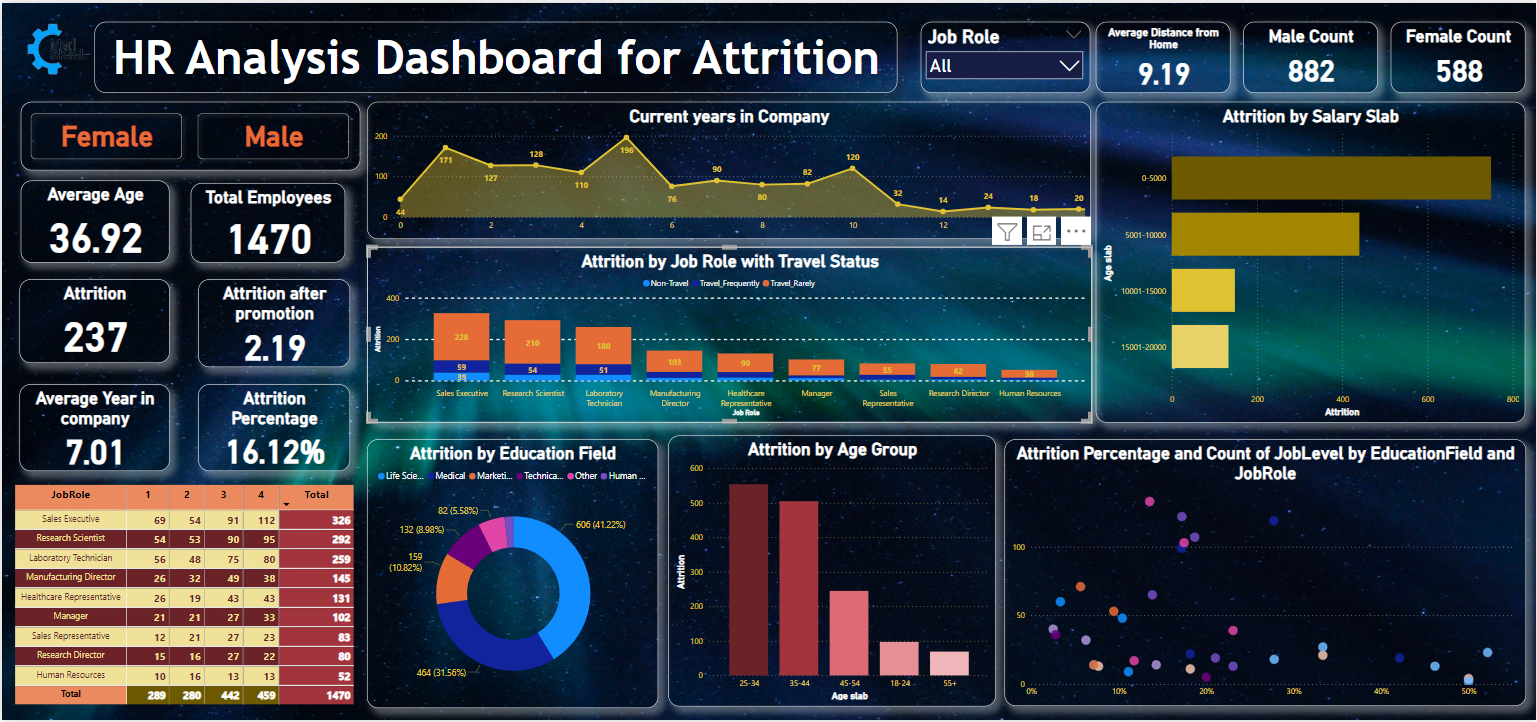

The dashboard page shown, as its layout file describes it:
{"tool":"powerbi","page":{"name":"Page 1","canvas":[2360,1105],"ordinal":0},"visuals":[{"type":"card","title":"Total Employees","fields":{"Values":["Sum(HR-Employee-Attrition.EmployeeCount)"]},"box":[291.1,277.8,237.8,122.2],"z":0},{"type":"donutChart","title":"Attrition by Education Field","fields":{"Y":["CountNonNull(HR-Employee-Attrition.Attrition)"],"Category":["HR-Employee-Attrition.EducationField"]},"box":[561.4,670.5,447.7,413.6],"z":1000},{"type":"card","title":"Attrition","fields":{"Values":["HR-Employee-Attrition.Total Attrition"]},"box":[26.7,424.4,231.1,128.9],"z":2000},{"type":"card","title":"Attrition Percentage","fields":{"Values":["HR-Employee-Attrition.Attrition Percentage"]},"box":[302.2,586.7,233.3,133.3],"z":3000},{"type":"card","title":"Average Age","fields":{"Values":["Avg(HR-Employee-Attrition.Age)"]},"box":[28.9,273.3,228.9,126.7],"z":4000},{"type":"card","title":"Average Year in company","fields":{"Values":["Avg(HR-Employee-Attrition.YearsAtCompany)"]},"box":[26.7,586.7,231.1,133.3],"z":5000},{"type":"columnChart","title":"Attrition by Age Group","fields":{"Category":["HR-Employee-Attrition.Age Group"],"Y":["CountNonNull(HR-Employee-Attrition.Attrition)"]},"box":[1025,664.6,504.2,416.7],"z":6000},{"type":"clusteredBarChart","title":" Attrition by Salary Slab","fields":{"Category":["HR-Employee-Attrition.SalarySlab"],"Y":["CountNonNull(HR-Employee-Attrition.Attrition)"]},"box":[1683.3,152.1,660.4,493.8],"z":7000},{"type":"columnChart","title":"Attrition by Job Role with Travel Status","fields":{"Y":["CountNonNull(HR-Employee-Attrition.Attrition)"],"Category":["HR-Employee-Attrition.JobRole"],"Series":["HR-Employee-Attrition.BusinessTravel"]},"box":[561.4,375,1115.9,270.5],"z":8000},{"type":"areaChart","title":"Current years in Company","fields":{"Y":["CountNonNull(HR-Employee-Attrition.Attrition)"],"Category":["HR-Employee-Attrition.YearsAtCompany"]},"box":[561.4,152.3,1113.6,211.4],"z":9000},{"type":"pivotTable","fields":{"Rows":["HR-Employee-Attrition.JobRole"],"Columns":["HR-Employee-Attrition.JobSatisfaction"],"Values":["Sum(HR-Employee-Attrition.EmployeeCount)"]},"box":[16.2,736.8,535.3,347.1],"z":10000},{"type":"scatterChart","fields":{"X":["HR-Employee-Attrition.Attrition Percentage"],"Category":["HR-Employee-Attrition.EducationField"],"Y":["CountNonNull(HR-Employee-Attrition.JobLevel)"],"Series":["HR-Employee-Attrition.JobRole"]},"box":[1541.7,670.8,802.1,410.4],"z":11000},{"type":"advancedSlicerVisual","fields":{"Values":["HR-Employee-Attrition.Gender"]},"box":[29.1,152.3,522.1,105.8],"z":12000},{"type":"card","title":"Attrition after promotion","fields":{"Values":["Avg(HR-Employee-Attrition.YearsSinceLastPromotion)"]},"box":[302.2,424.4,233.3,135.6],"z":13000},{"type":"card","title":"Female Count","fields":{"Values":["HR-Employee-Attrition.FemaleCount"]},"box":[2135.8,28.3,207.5,109.4],"z":14000},{"type":"card","title":"Male Count","fields":{"Values":["HR-Employee-Attrition.MaleCount"]},"box":[1909.4,28.3,207.5,109.4],"z":15000},{"type":"textbox","box":[143.1,29.4,1235.3,109.8],"z":16000},{"type":"image","box":[15.7,19.6,139.2,111.8],"z":17000},{"type":"card","title":"Average Distance from Home","fields":{"Values":["Avg(HR-Employee-Attrition.DistanceFromHome)"]},"box":[1683.3,28.6,207.1,109.5],"z":18000},{"type":"slicer","fields":{"Values":["HR-Employee-Attrition.JobRole"]},"box":[1413.7,29.4,260.8,109.8],"z":19000}]}

Visuals, with their boxes in screenshot pixels (x1, y1, x2, y2), scaled from the page's 2360x1105 canvas onto the 1537x722 screenshot:
"Total Employees" card: box(190, 182, 344, 261)
"Attrition by Education Field" donutChart: box(366, 438, 657, 708)
"Attrition" card: box(17, 277, 168, 362)
"Attrition Percentage" card: box(197, 383, 349, 470)
"Average Age" card: box(19, 179, 168, 261)
"Average Year in company" card: box(17, 383, 168, 470)
"Attrition by Age Group" columnChart: box(668, 434, 996, 707)
" Attrition by Salary Slab" clusteredBarChart: box(1096, 99, 1526, 422)
"Attrition by Job Role with Travel Status" columnChart: box(366, 245, 1092, 422)
"Current years in Company" areaChart: box(366, 100, 1091, 238)
pivotTable - HR-Employee-Attrition.JobRole x HR-Employee-Attrition.JobSatisfaction: box(11, 481, 359, 708)
scatterChart - HR-Employee-Attrition.Attrition Percentage x HR-Employee-Attrition.EducationField: box(1004, 438, 1526, 706)
advancedSlicerVisual - HR-Employee-Attrition.Gender: box(19, 100, 359, 169)
"Attrition after promotion" card: box(197, 277, 349, 366)
"Female Count" card: box(1391, 18, 1526, 90)
"Male Count" card: box(1244, 18, 1379, 90)
textbox: box(93, 19, 898, 91)
image: box(10, 13, 101, 86)
"Average Distance from Home" card: box(1096, 19, 1231, 90)
slicer - HR-Employee-Attrition.JobRole: box(921, 19, 1091, 91)
